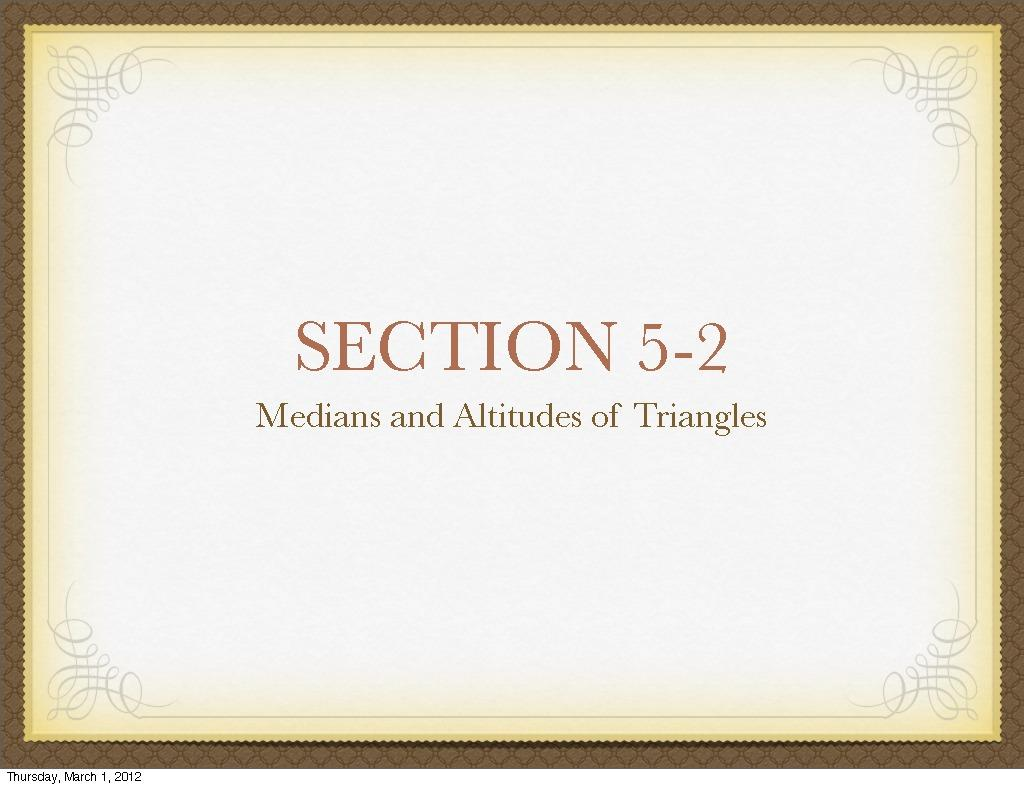title: (238, 255, 845, 480)
